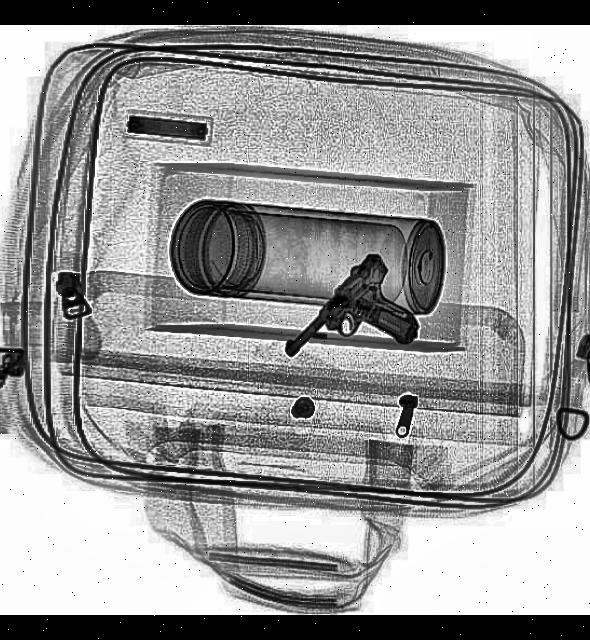Gun: (276, 244, 438, 410)
